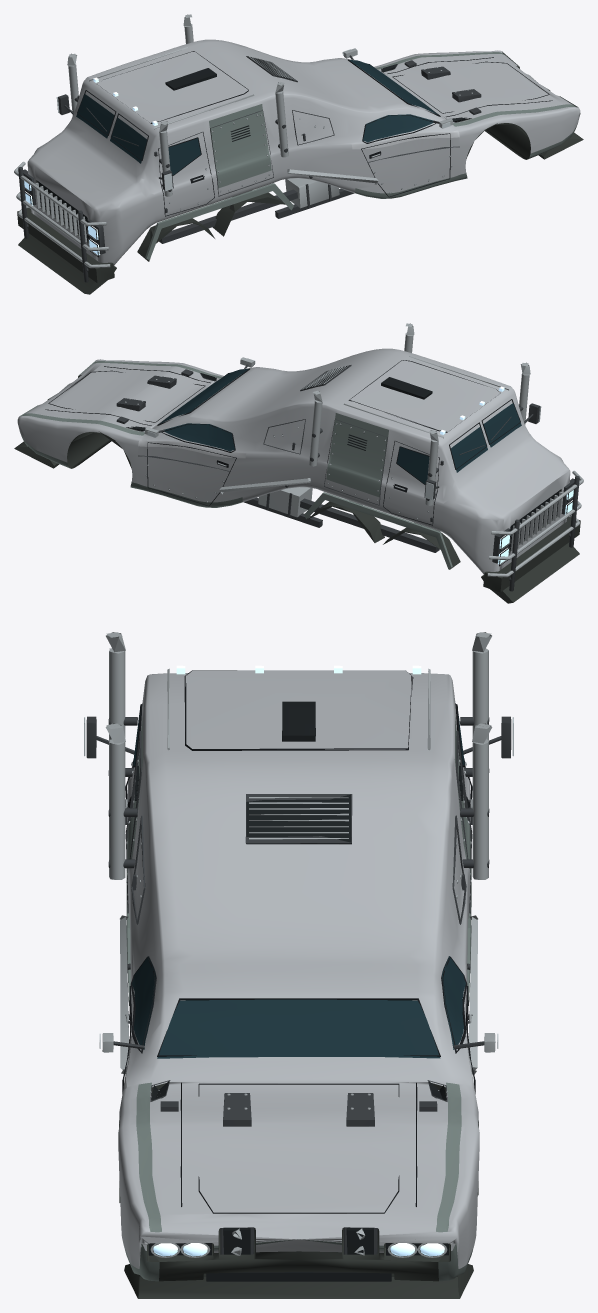
Rendered from blackjack_blueprint.glb.
3 renders of one model, top to bottom at view 1: azimuth 30°, elevation 25°; view 2: azimuth 150°, elevation 25°; view 3: azimuth 270°, elevation 25°, orthographic. The views are drawn at different scales.
Parts seen in each view (by area): view 1: Body_BlueprintShell.001__Channel1, Body_BlueprintShell.001__Channel2, Roof_ArmoredAccessHatch.001__Channel0, Armor_RuggedBumper.001__Channel0, Armor_RuggedAngledSkid.001__Channel0, Body_FenderFold_1.001__Channel0, Glass_CoupeSide_1.001__Channel0, Chassis_Frame_0.001__Channel0, Body_BlueprintShell.001__Channel0, Drivetrain_Tank_1.001__Channel0, Glass_TruckFront_1.001__Channel0, Glass_TruckFront_-1.001__Channel0 (+14 smaller); view 2: Body_BlueprintShell.001__Channel1, Body_BlueprintShell.001__Channel2, Roof_ArmoredAccessHatch.001__Channel0, Armor_RuggedBumper.001__Channel0, Armor_RuggedAngledSkid.001__Channel0, Body_FenderFold_-1.001__Channel0, Glass_CoupeSide_-1.001__Channel0, Chassis_Frame_-0.001__Channel0, Drivetrain_Tank_-1.001__Channel0, Body_BlueprintShell.001__Channel0, Glass_TruckFront_-1.001__Channel0, Glass_TruckFront_1.001__Channel0 (+14 smaller); view 3: Body_BlueprintShell.001__Channel1, Roof_ArmoredAccessHatch.001__Channel0, Glass_CoupeWindshield.001__Channel0, Body_BlueprintShell.001__Channel0, Body_BlueprintShell.001__Channel2, Armor_CoupeLayeredAirDam.001__Channel0, Armor_TransitionServiceVent.001__Channel0, Exhaust_Stack_1_472.001__Channel0, Exhaust_Stack_-1_472.001__Channel0, Grille_CoupeIntake.001__Channel0, Glass_CoupeSide_1.001__Channel0, Glass_CoupeSide_-1.001__Channel0 (+10 smaller).
Boxes of the visible parts, bbox=[...] form: Body_BlueprintShell.001__Channel1: bbox=[27, 39, 580, 265]; Body_BlueprintShell.001__Channel2: bbox=[209, 51, 577, 198]; Roof_ArmoredAccessHatch.001__Channel0: bbox=[97, 51, 248, 122]; Armor_RuggedBumper.001__Channel0: bbox=[17, 207, 114, 283]; Armor_RuggedAngledSkid.001__Channel0: bbox=[18, 233, 116, 294]; Body_FenderFold_1.001__Channel0: bbox=[145, 183, 293, 260]; Glass_CoupeSide_1.001__Channel0: bbox=[363, 114, 433, 142]; Chassis_Frame_0.001__Channel0: bbox=[159, 189, 297, 243]; Body_BlueprintShell.001__Channel0: bbox=[36, 66, 549, 243]; Drivetrain_Tank_1.001__Channel0: bbox=[285, 178, 339, 208]; Glass_TruckFront_1.001__Channel0: bbox=[110, 117, 146, 163]; Glass_TruckFront_-1.001__Channel0: bbox=[76, 94, 114, 138]; Body_BlueprintShell.001__Channel1: bbox=[17, 348, 570, 574]; Body_BlueprintShell.001__Channel2: bbox=[20, 360, 388, 507]; Roof_ArmoredAccessHatch.001__Channel0: bbox=[349, 360, 500, 431]; Armor_RuggedBumper.001__Channel0: bbox=[483, 516, 580, 592]; Armor_RuggedAngledSkid.001__Channel0: bbox=[481, 542, 579, 603]; Body_FenderFold_-1.001__Channel0: bbox=[304, 492, 452, 569]; Glass_CoupeSide_-1.001__Channel0: bbox=[164, 423, 234, 451]; Chassis_Frame_-0.001__Channel0: bbox=[300, 498, 439, 552]; Drivetrain_Tank_-1.001__Channel0: bbox=[258, 487, 312, 517]; Body_BlueprintShell.001__Channel0: bbox=[48, 375, 561, 552]; Glass_TruckFront_-1.001__Channel0: bbox=[451, 426, 487, 472]; Glass_TruckFront_1.001__Channel0: bbox=[483, 403, 521, 447]; Body_BlueprintShell.001__Channel1: bbox=[118, 673, 479, 1268]; Roof_ArmoredAccessHatch.001__Channel0: bbox=[185, 670, 412, 749]; Glass_CoupeWindshield.001__Channel0: bbox=[157, 999, 440, 1058]; Body_BlueprintShell.001__Channel0: bbox=[119, 1083, 478, 1281]; Body_BlueprintShell.001__Channel2: bbox=[123, 717, 474, 1281]; Armor_CoupeLayeredAirDam.001__Channel0: bbox=[124, 1264, 473, 1298]; Armor_TransitionServiceVent.001__Channel0: bbox=[246, 795, 351, 844]; Exhaust_Stack_1_472.001__Channel0: bbox=[109, 741, 125, 879]; Exhaust_Stack_-1_472.001__Channel0: bbox=[472, 741, 488, 879]; Grille_CoupeIntake.001__Channel0: bbox=[206, 1272, 391, 1281]; Glass_CoupeSide_1.001__Channel0: bbox=[132, 956, 155, 1049]; Glass_CoupeSide_-1.001__Channel0: bbox=[442, 956, 465, 1049].
Bounding box in the file's own units: 2.15 × 0.7355 × 0.8083.
